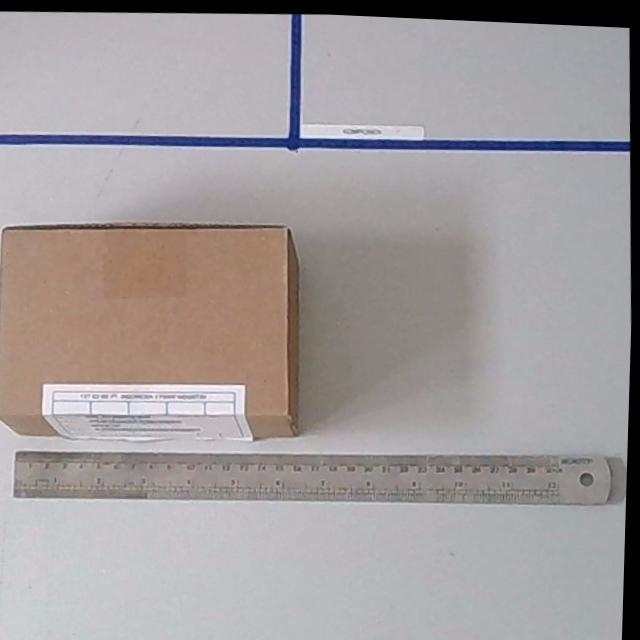box: (0, 207, 312, 454)
ruler: (9, 423, 623, 528)
